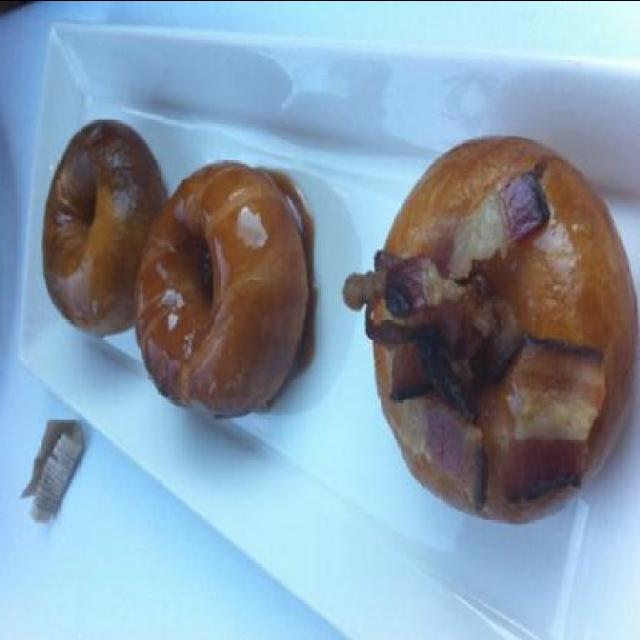Donuts: (38, 108, 640, 520)
